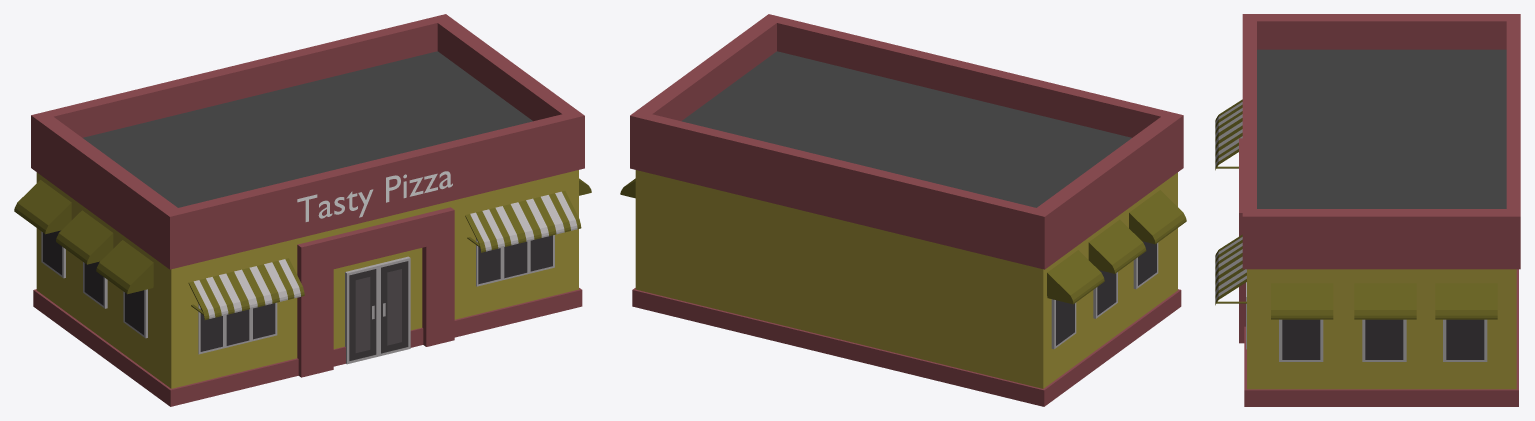
File: Building_Pizzeria.fbx
3 views of the same model, side by side, from view 1: azimuth 30°, elevation 25°; view 2: azimuth 150°, elevation 25°; view 3: azimuth 270°, elevation 25° (orthographic).
Parts seen in each view (by area): view 1: Cube, Text; view 2: Cube; view 3: Cube.
Part boxes in pixels (bbox=[...]): Cube: bbox=[14, 14, 591, 406]; Text: bbox=[297, 171, 452, 221]; Cube: bbox=[620, 14, 1186, 406]; Cube: bbox=[1215, 14, 1520, 406].
Size of the model in its own units: 2547 by 1014 by 1468.
